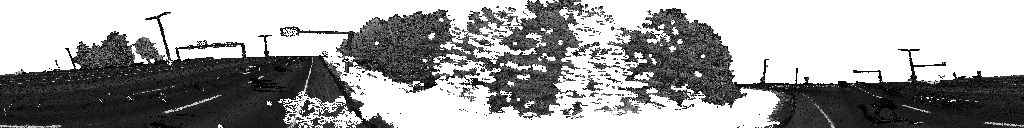gantry_sign_pole: (280, 26, 352, 75), (175, 40, 247, 62), (910, 62, 947, 86), (853, 70, 881, 83)
light_pole: (145, 13, 173, 74), (898, 49, 920, 67), (258, 36, 271, 58), (760, 60, 768, 90), (65, 47, 76, 67), (795, 67, 799, 85), (55, 61, 59, 72)
traffic_pole: (804, 78, 808, 87), (322, 52, 327, 58)
